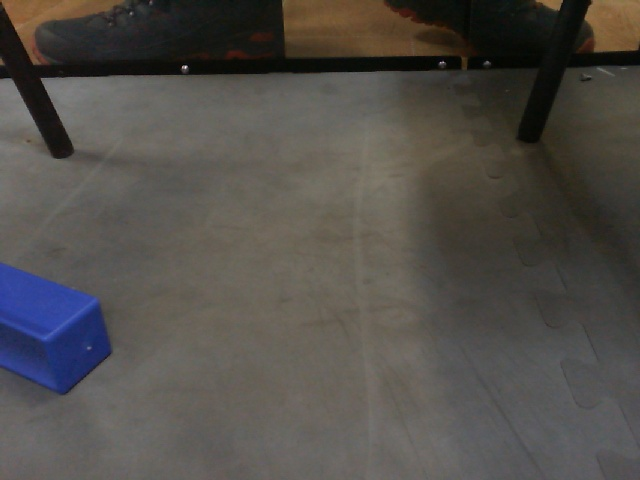BlueSample: (1, 257, 116, 397)
